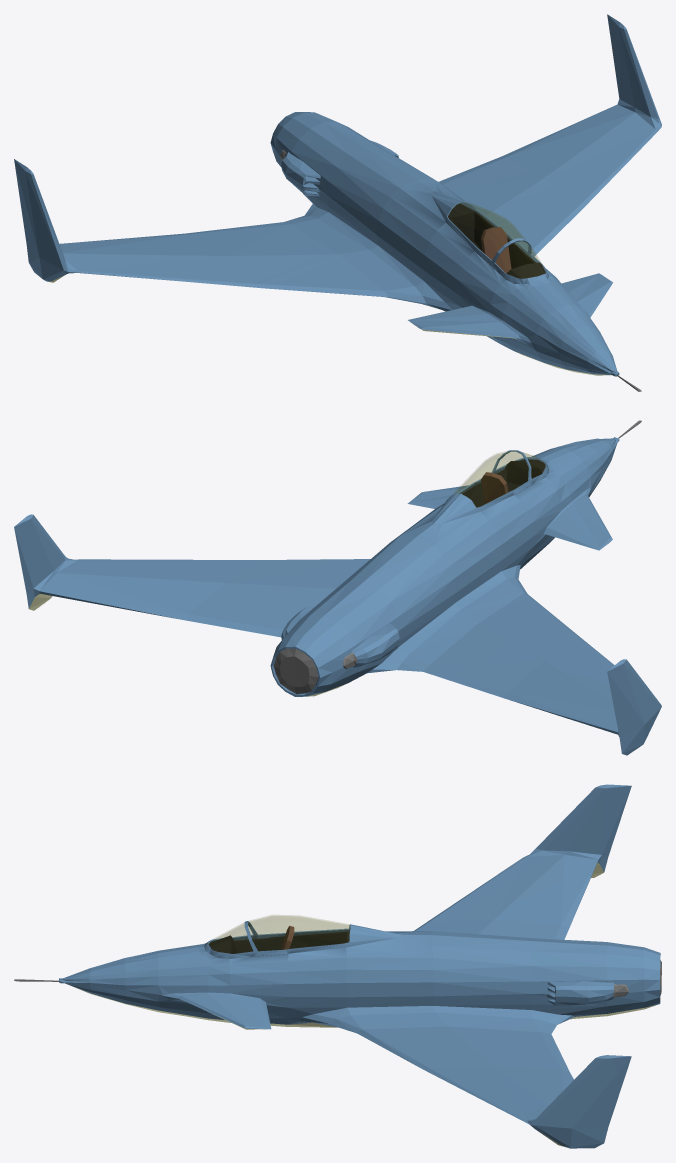
The model's file is aircraft_7.glb.
3 renders of one model, top to bottom at view 1: azimuth 30°, elevation 25°; view 2: azimuth 150°, elevation 25°; view 3: azimuth 270°, elevation 25°, orthographic. The views are drawn at different scales.
Visible parts, largest first — view 1: fuselage, canopy rim, cockpit interior; view 2: fuselage, canopy rim, cockpit interior, canopy glass; view 3: fuselage, canopy rim, canopy glass, cockpit interior.
Part boxes in pixels (x1=…): fuselage: x1=14, y1=14, x2=661, y2=391; canopy rim: x1=432, y1=191, x2=548, y2=283; cockpit interior: x1=481, y1=227, x2=545, y2=278; fuselage: x1=14, y1=420, x2=661, y2=755; canopy rim: x1=432, y1=450, x2=548, y2=524; cockpit interior: x1=481, y1=460, x2=545, y2=503; canopy glass: x1=454, y1=451, x2=533, y2=493; fuselage: x1=14, y1=784, x2=661, y2=1148; canopy rim: x1=204, y1=916, x2=401, y2=958; canopy glass: x1=214, y1=915, x2=348, y2=938; cockpit interior: x1=208, y1=925, x2=294, y2=953.
Size of the model in its own units: 13.14 by 2.41 by 13.03.
